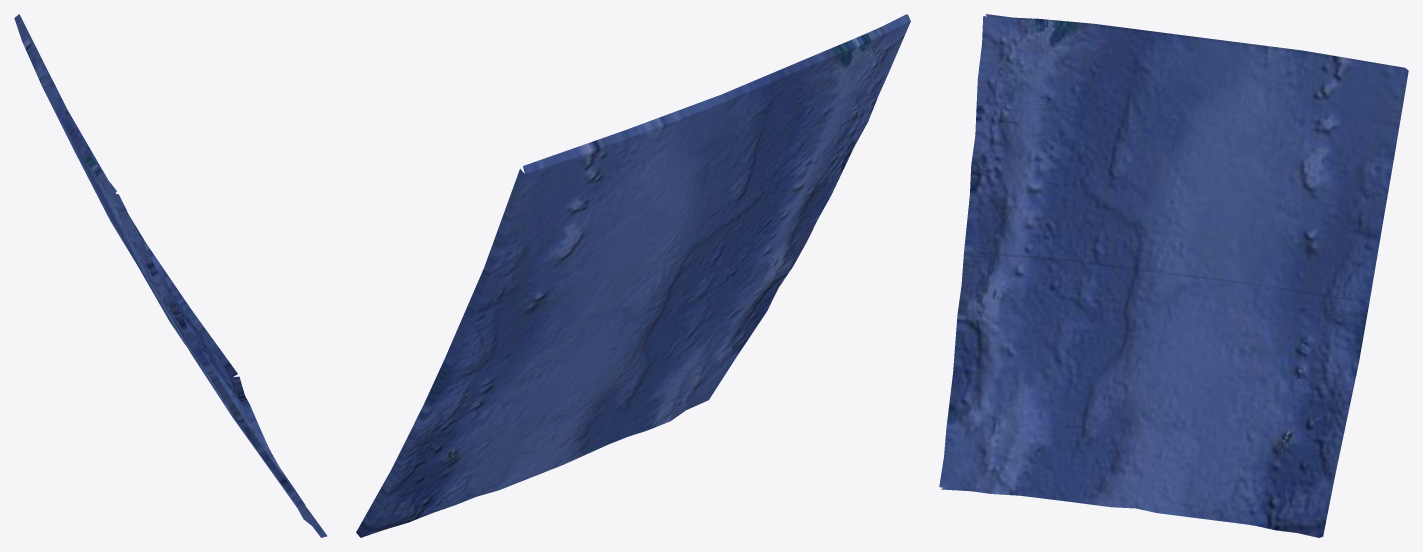
3 views of the same model, side by side, from view 1: azimuth 30°, elevation 25°; view 2: azimuth 150°, elevation 25°; view 3: azimuth 270°, elevation 25° (orthographic). The views are drawn at different scales.
Size of the model in its own units: 899104 by 1118678 by 1237871.
1 material, 1 textured.
